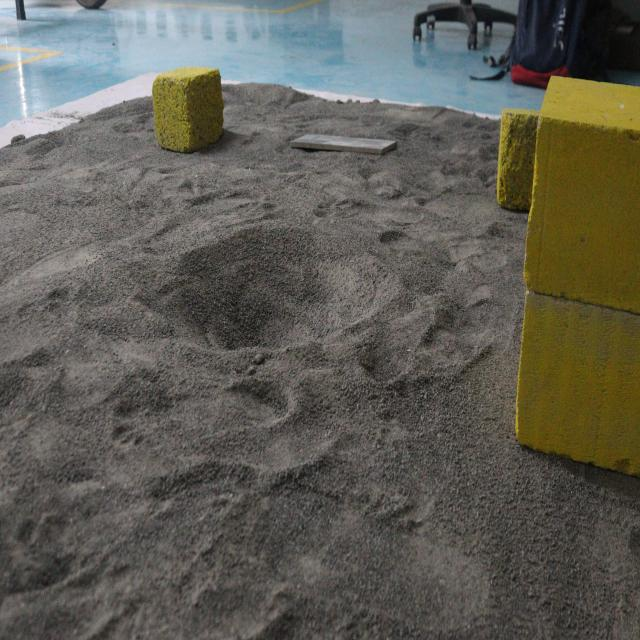box: (508, 70, 640, 488), (147, 66, 232, 165)
crater: (128, 216, 407, 370)
